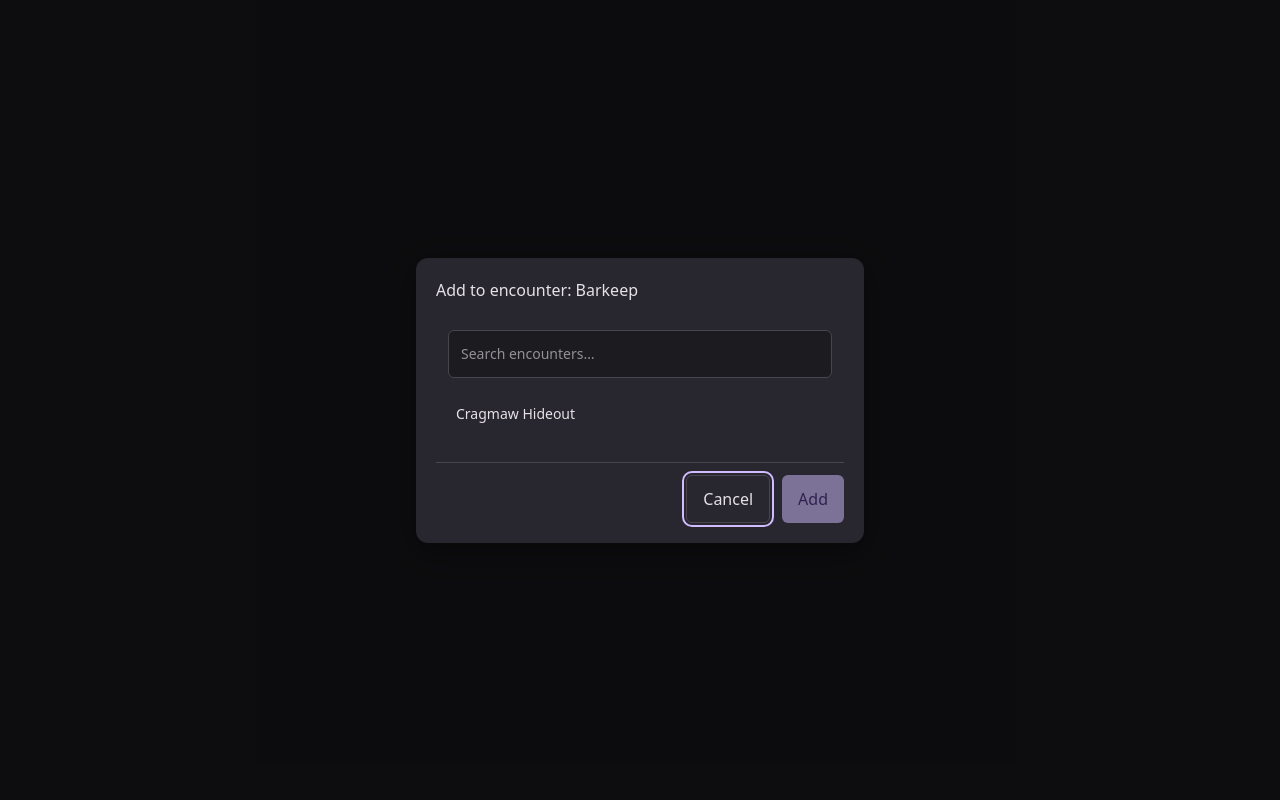
AddToEncounterDialog › shows No encounters match your search. when a search matches nothing
The width and height of the screenshot is (1280, 800).
Expected: the text "Cragmaw Hideout" is shown, [456, 404, 575, 424]
In the search field: (640, 354) [448, 330, 832, 378], type "xyzzy"
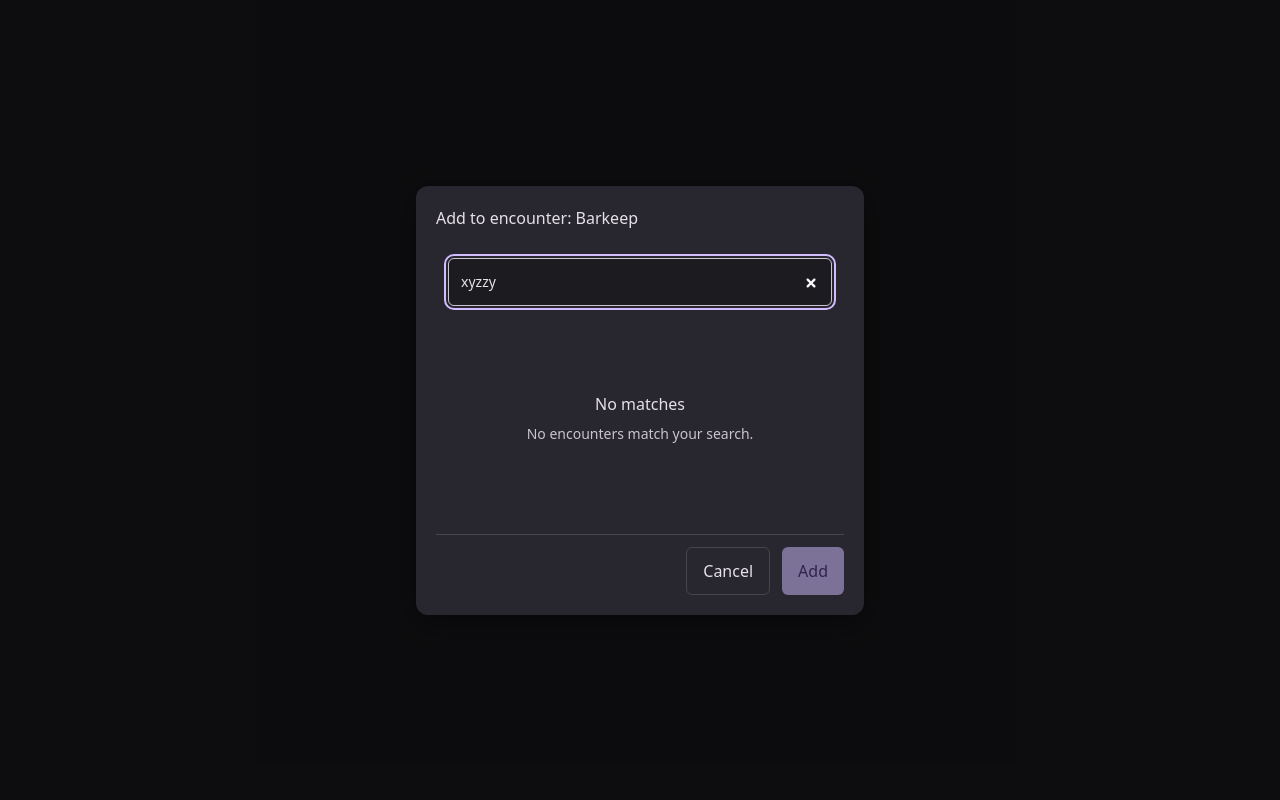
Now the text "No encounters match your search." is shown, box [527, 424, 753, 444]
